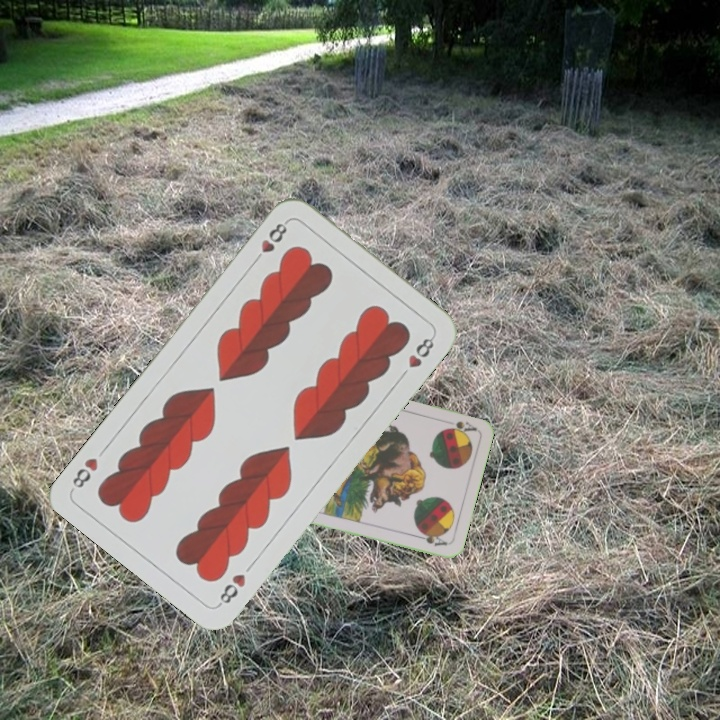H8: (249, 216, 291, 266), (214, 569, 249, 609)
SA: (440, 417, 479, 437)
